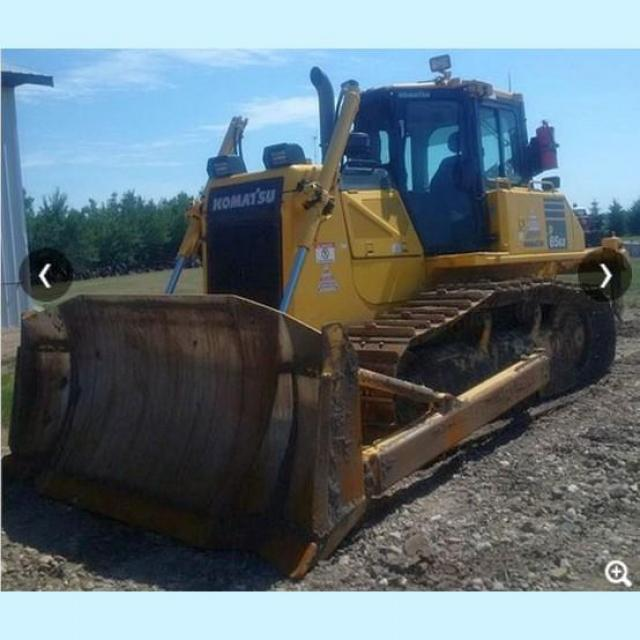Bulldozer: (6, 60, 639, 573)
